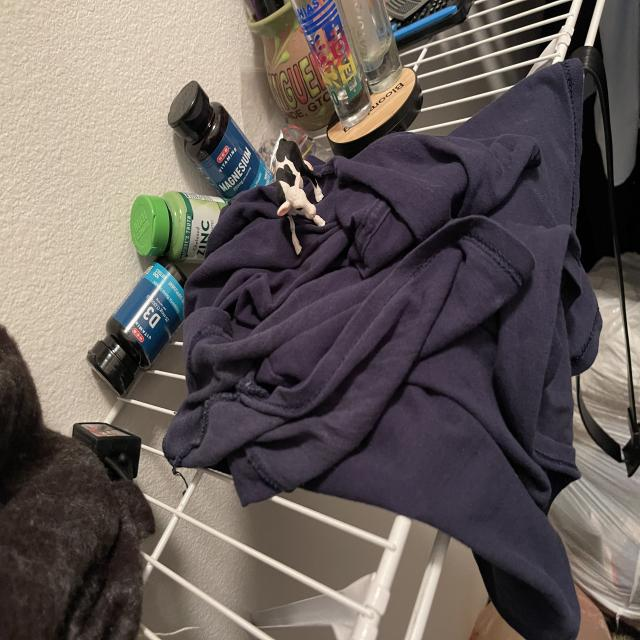cow: (270, 136, 326, 230), (286, 218, 303, 255)
